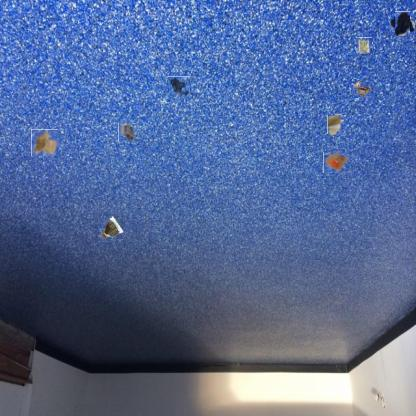dirty: (31, 129, 58, 156), (98, 215, 124, 241), (325, 150, 349, 175), (352, 80, 372, 100), (118, 122, 137, 142), (327, 114, 344, 134), (356, 38, 373, 54)
liquid: (168, 76, 190, 97), (392, 14, 413, 34)
